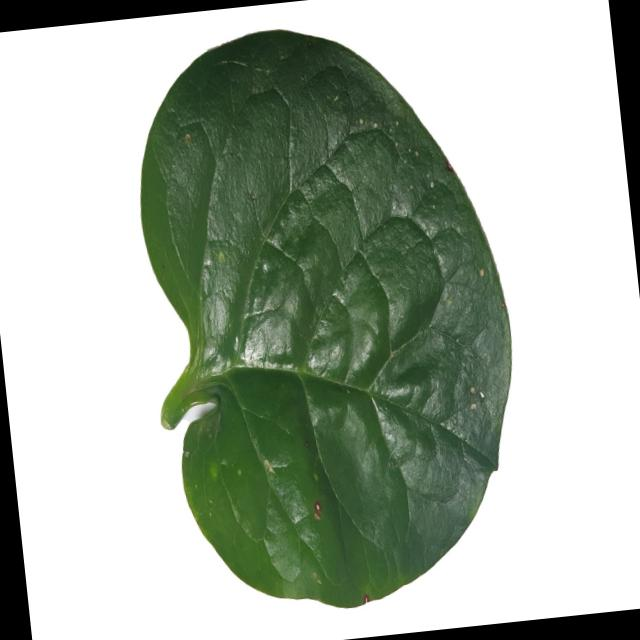Medicinal-Basale: (122, 6, 538, 623)
